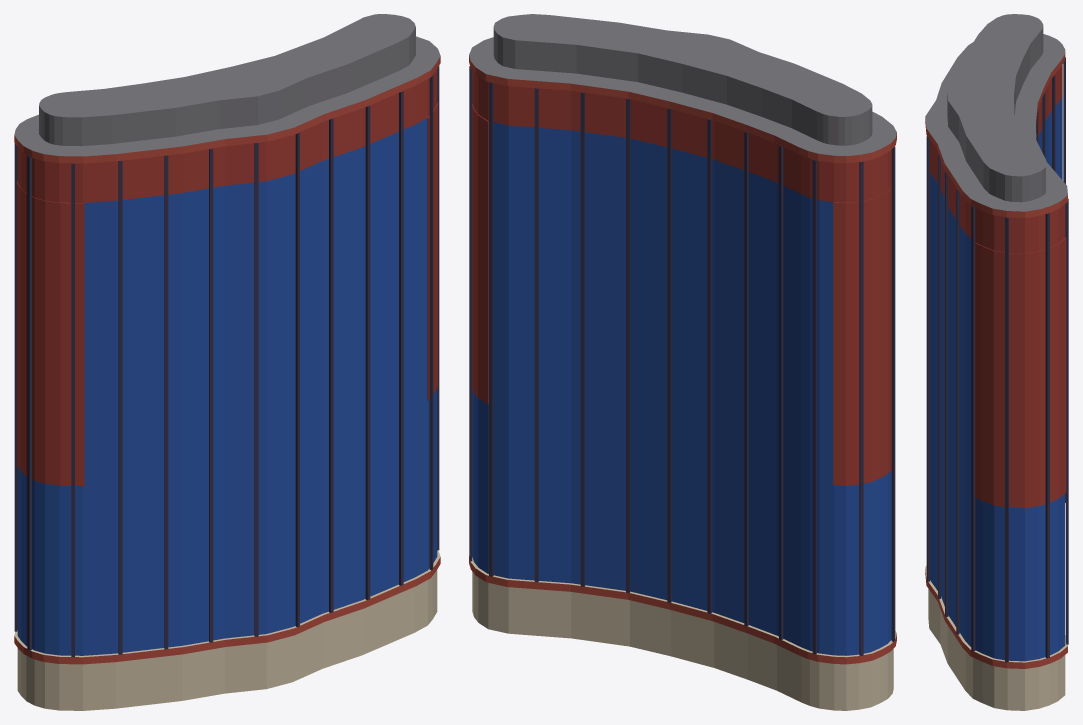
The model's file is rio_all_suite_hotel_an_w134938481.glb.
3 views of the same model, side by side, from view 1: azimuth 30°, elevation 25°; view 2: azimuth 150°, elevation 25°; view 3: azimuth 270°, elevation 25° (orthographic). The views are drawn at different scales.
Parts seen in each view (by area): view 1: Tower_w134938481; view 2: Tower_w134938481; view 3: Tower_w134938481.
Part boxes in pixels (box(x1,y1,x2,y2)): Tower_w134938481: box(14, 14, 440, 710); Tower_w134938481: box(469, 14, 896, 710); Tower_w134938481: box(925, 14, 1068, 710).
Size of the model in its own units: 90 by 122 by 30.09.
